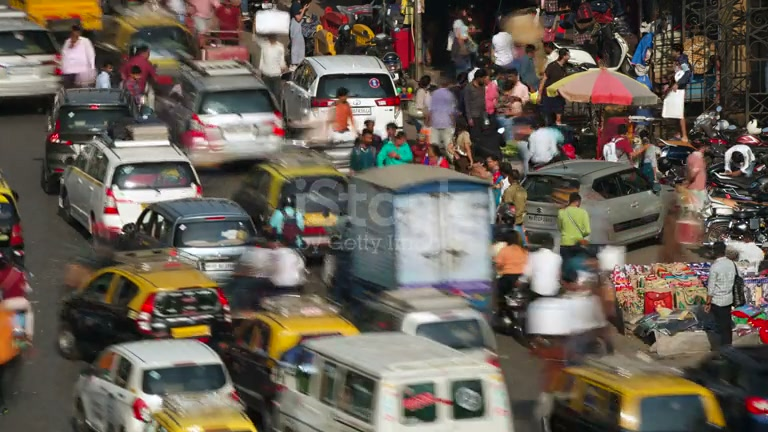bus: (269, 330, 515, 429)
car: (267, 330, 516, 428), (55, 253, 232, 362), (218, 292, 362, 425), (70, 336, 258, 431), (56, 136, 204, 245), (535, 353, 731, 430), (154, 58, 287, 170), (231, 145, 349, 261), (521, 159, 666, 251), (118, 196, 261, 283), (280, 54, 402, 148), (228, 292, 361, 378), (39, 87, 138, 195), (366, 284, 499, 357), (0, 12, 65, 112), (0, 169, 26, 266)
pedestrian: (706, 241, 741, 351), (556, 191, 591, 284), (0, 250, 34, 342), (493, 229, 529, 315), (58, 23, 97, 89), (524, 232, 563, 297), (428, 77, 459, 150), (500, 165, 528, 240), (376, 127, 414, 166)
truck: (336, 163, 498, 317), (280, 54, 403, 147)
